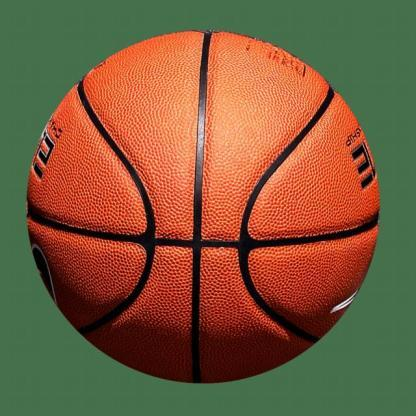basketball: (26, 28, 382, 383)
